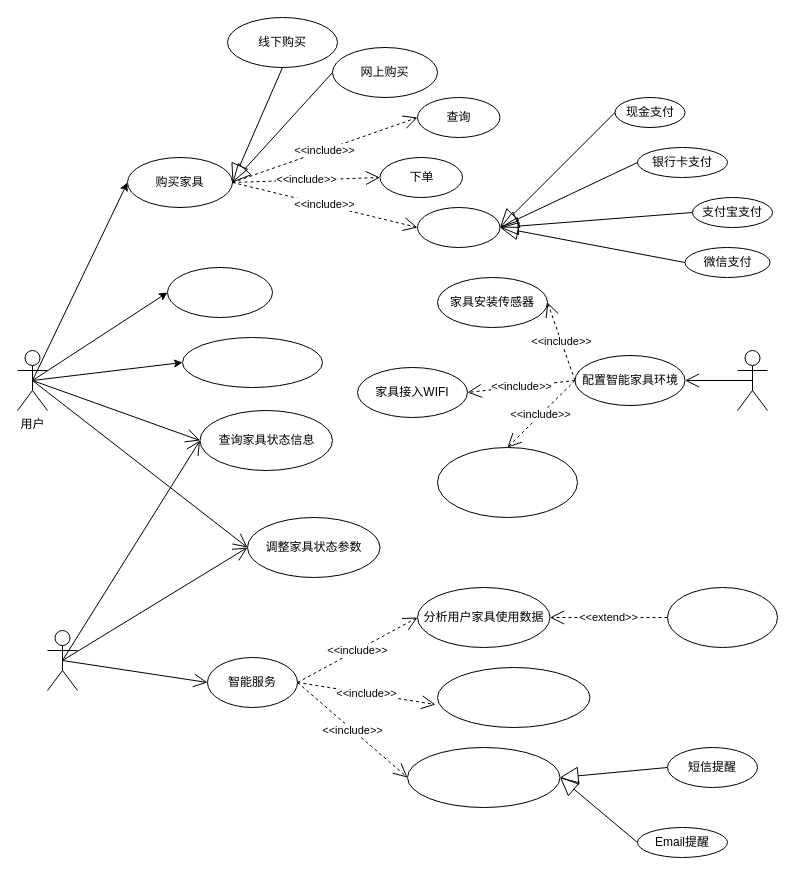
The diagram is 795 pixels wide and 878 high, and some of its shapes have lost their labels. Here are the shapes that lost their labels. From the top down, the centre of each, then its label:
the point at 458,227: 支付
the point at 219,292: 身份绑定认证
the point at 252,362: 初始化默认偏好习惯
the point at 752,380: 家具厂商
the point at 507,482: 服务器安装家具传感器操控应用程序
the point at 722,617: SSE实时更新数据
the point at 62,660: 后台管理员
the point at 513,697: 给用户发送学习模式请求
the point at 483,777: 给用户发送家具维修提醒
